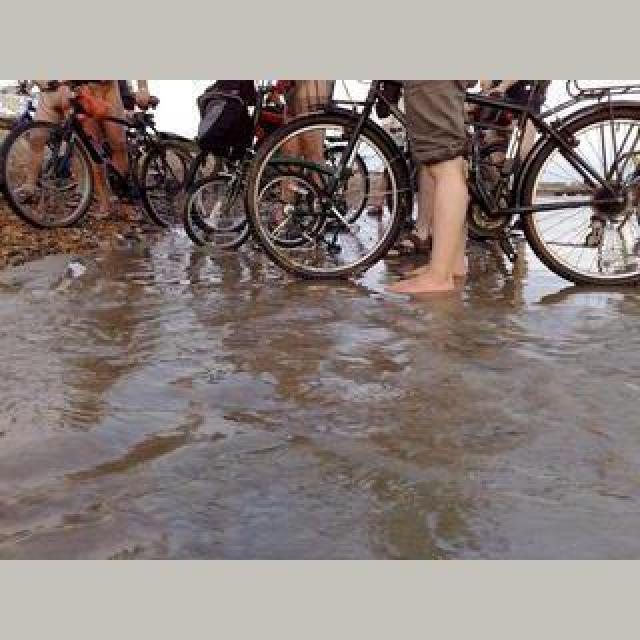Person: (246, 78, 640, 288), (6, 90, 202, 232), (184, 82, 340, 254)
